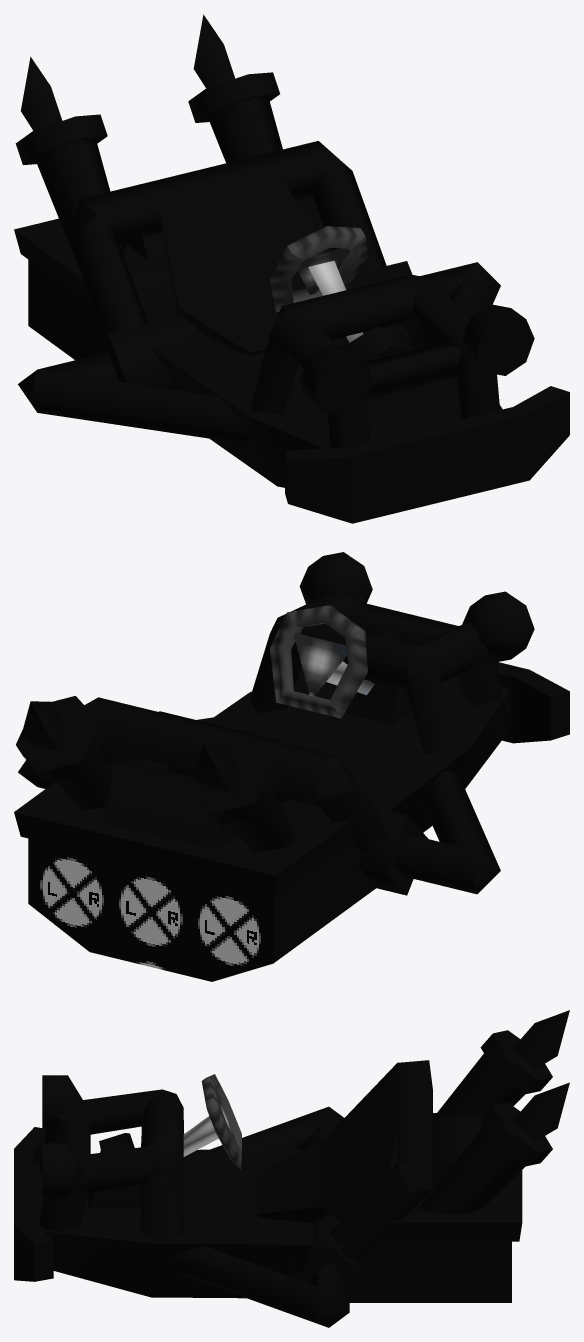
The model's file is body_rally.dae.
The picture shows the model from 3 angles, top to bottom: view 1: azimuth 30°, elevation 25°; view 2: azimuth 150°, elevation 25°; view 3: azimuth 270°, elevation 25°; orthographic projection. The views are drawn at different scales.
Visible parts, largest first — view 1: _1_0_node.001, _0_0_node; view 2: _1_0_node.001, _0_0_node; view 3: _1_0_node.001, _0_0_node.
Boxes of the visible parts, bbox=[...] form: _1_0_node.001: bbox=[14, 14, 569, 523]; _0_0_node: bbox=[270, 226, 367, 342]; _1_0_node.001: bbox=[14, 552, 569, 981]; _0_0_node: bbox=[270, 605, 374, 718]; _1_0_node.001: bbox=[14, 1010, 569, 1327]; _0_0_node: bbox=[183, 1074, 241, 1169].
Size of the model in its own units: 16.67 by 19.83 by 9.09.
Materials: 3 (3 with a texture image).
